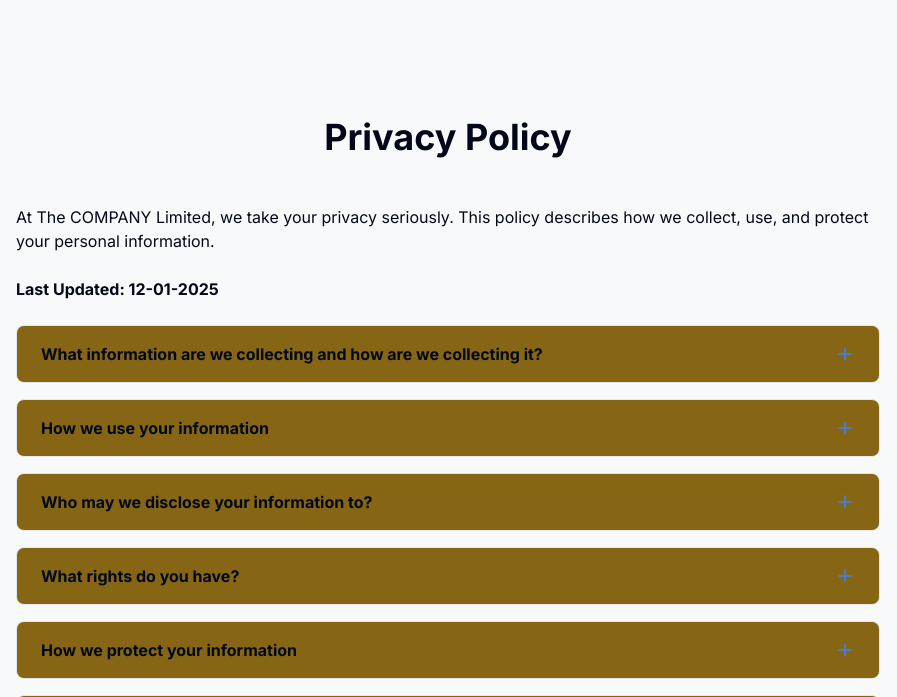
Scenario: Privacy Policy Page › shows only one section at a time
Step 1. Click the button "What information are we collecting" → (448, 354), box [17,326,879,382]
(page scrolled)
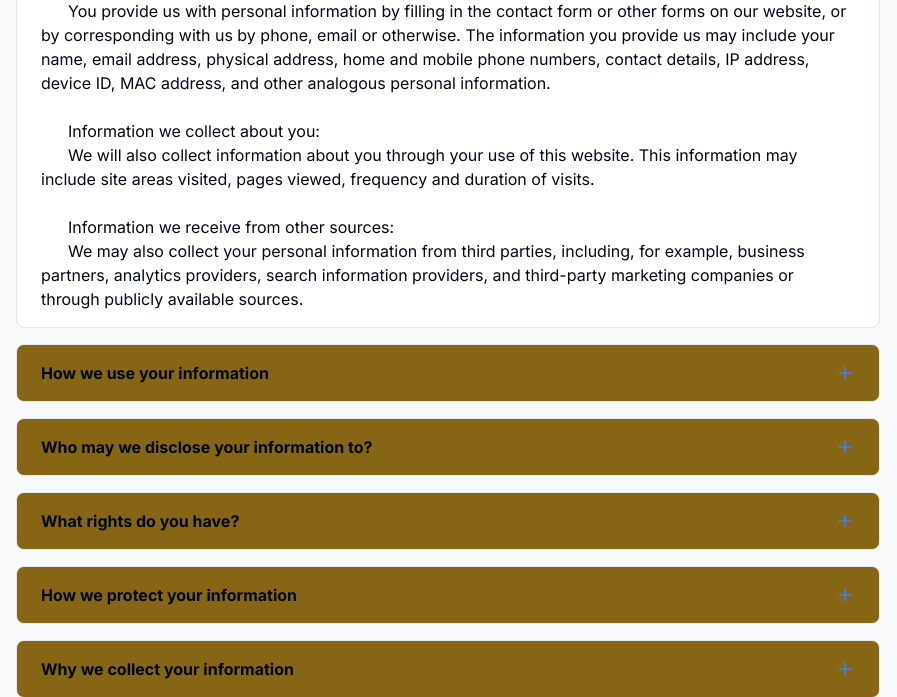
Step 2. Click the button "How we use your information" → (155, 373), box [17,345,879,401]
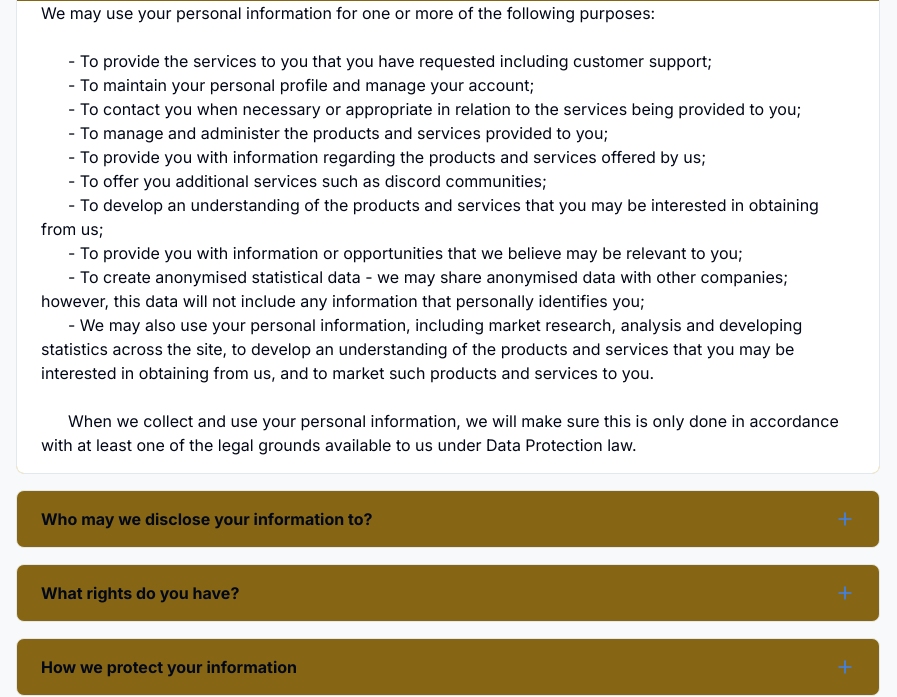
Now the text "We may use your personal information" is shown, box [41,3,843,455]
